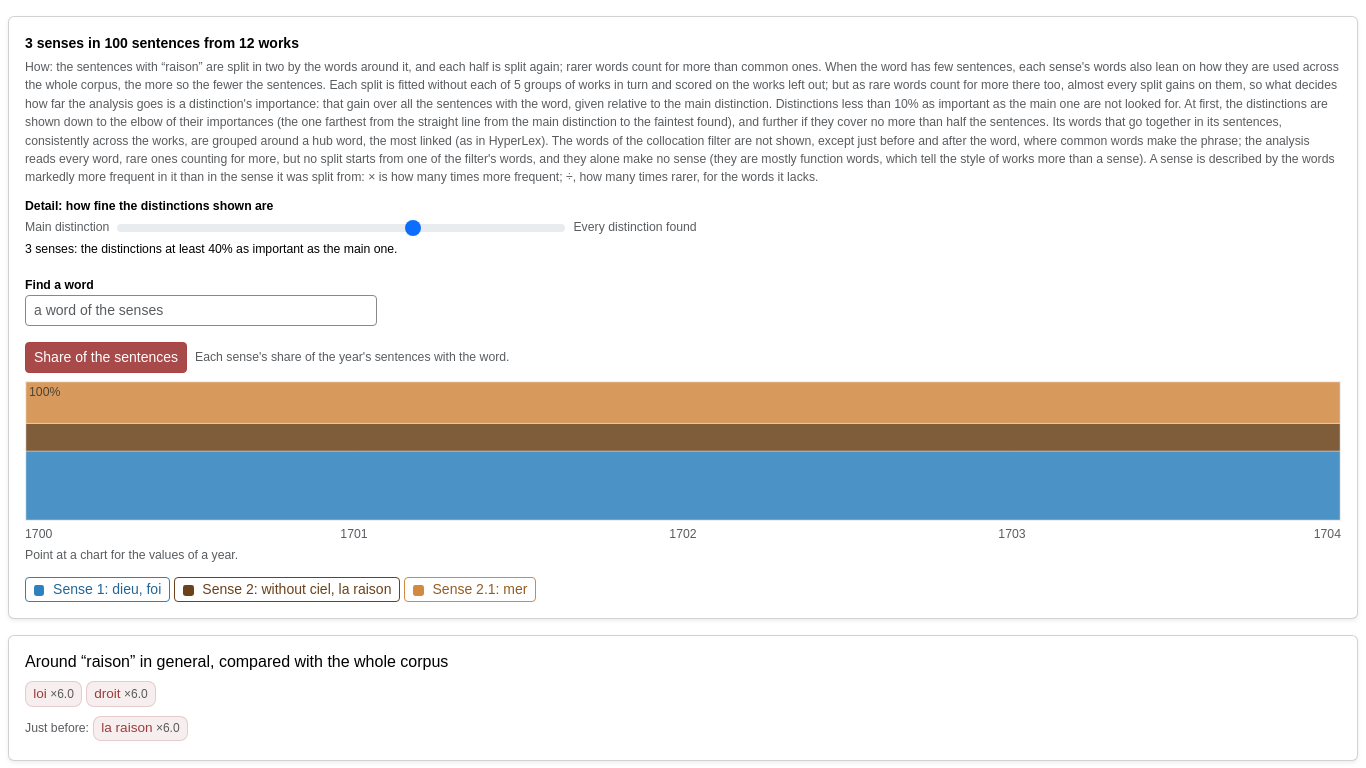
Test case: WordSenses › says why a sense was not split further
Set the slider with id "word-senses-detail" to "3": (557, 228) [117, 216, 565, 240]
(page scrolled)
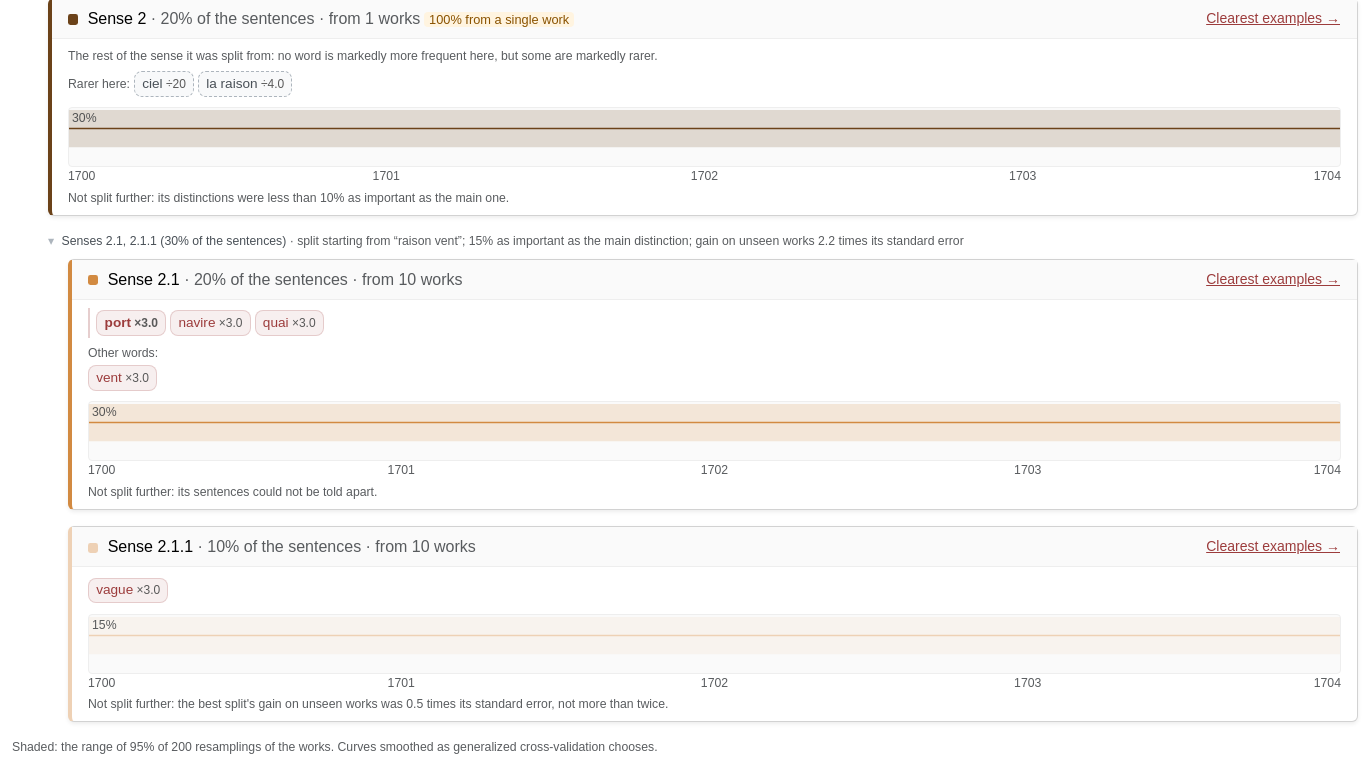
Check: the element with id "sense-card-4" shows "its sentences could not be told apart", box [88, 485, 377, 499]
